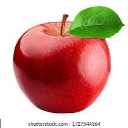apple: (10, 19, 114, 115)
